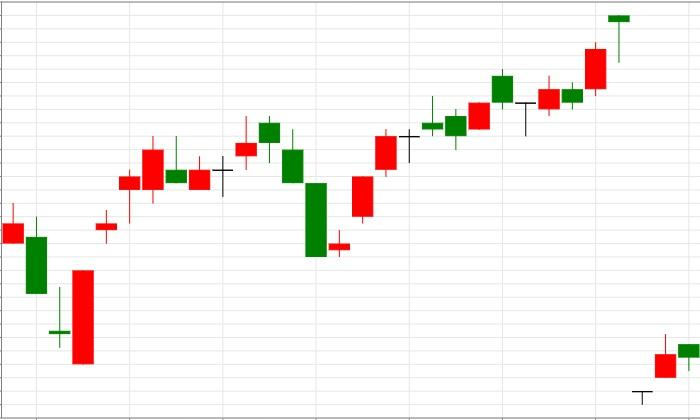three_black_crows_fall: (188, 116, 328, 258)
three_white_soldiers_rise: (2, 170, 141, 365), (258, 116, 398, 258)
